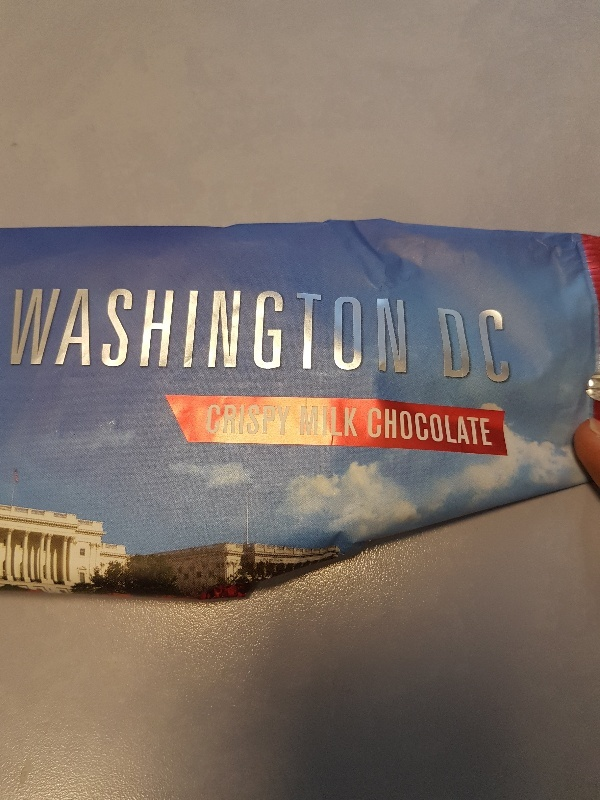text: (17, 286, 32, 375), (33, 286, 48, 375), (49, 286, 64, 375), (65, 286, 80, 375), (81, 286, 96, 375), (97, 286, 112, 375), (113, 286, 128, 375), (129, 286, 144, 375), (145, 286, 160, 375), (161, 286, 176, 375), (177, 286, 192, 375), (193, 286, 208, 375), (209, 286, 224, 375), (225, 286, 240, 375), (241, 286, 256, 375), (257, 286, 272, 375), (273, 286, 288, 375), (289, 286, 304, 375), (305, 286, 320, 375), (321, 286, 336, 375), (337, 286, 352, 375), (353, 286, 368, 375), (369, 286, 384, 375), (385, 286, 400, 375), (449, 308, 464, 385), (465, 308, 480, 385), (481, 308, 496, 385), (497, 308, 512, 385), (437, 308, 448, 385), (401, 286, 408, 375), (369, 407, 384, 447), (385, 407, 400, 447), (401, 407, 416, 447), (417, 407, 432, 447), (433, 407, 448, 447), (449, 407, 464, 447), (465, 407, 480, 447), (305, 405, 320, 438), (321, 405, 336, 438), (337, 405, 352, 438), (209, 404, 224, 436), (225, 404, 240, 436), (241, 404, 256, 436), (257, 404, 272, 436), (273, 404, 288, 436), (481, 407, 493, 447), (353, 405, 359, 438), (14, 286, 16, 375), (300, 405, 304, 438), (289, 404, 292, 436), (207, 404, 208, 436)
